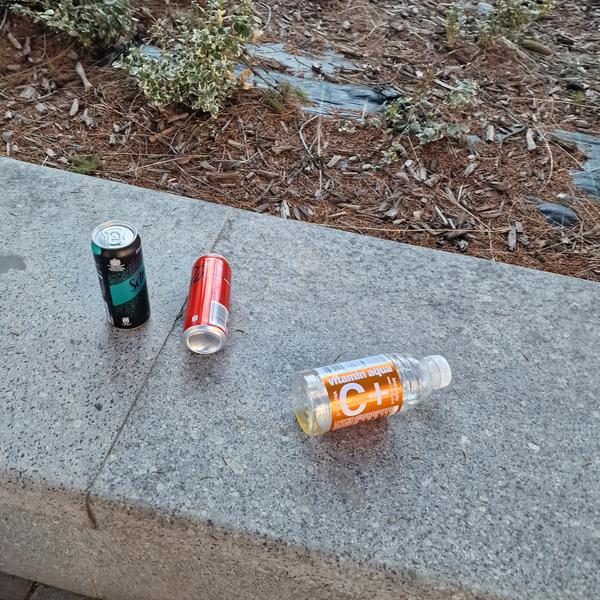can: (84, 213, 160, 335), (180, 251, 237, 358)
plastic_bottle: (280, 334, 462, 443)
